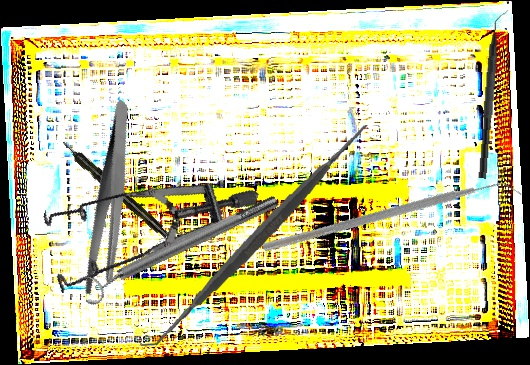Chopper: (261, 88, 523, 354), (478, 8, 510, 180)
Dressing Forceps: (42, 98, 179, 302)
Fixation Ring: (75, 187, 284, 308)
Handpiece: (58, 137, 172, 241)
Spatula Surgical: (139, 109, 381, 362)
Speculum: (22, 131, 260, 341)
